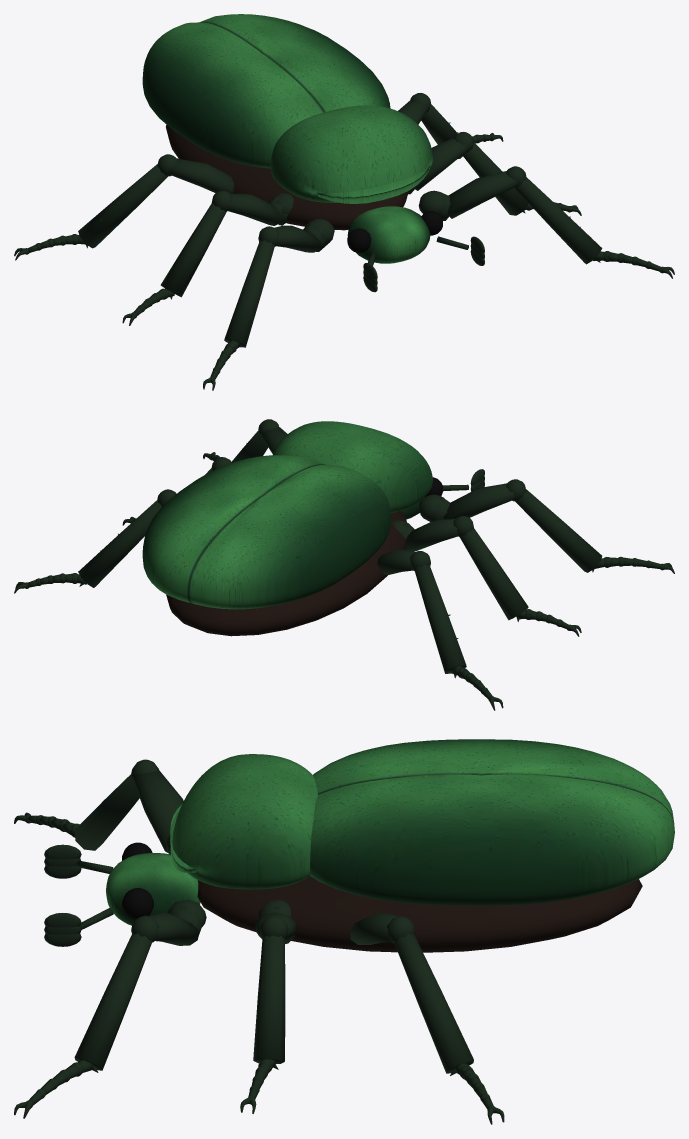
File: bug_kanabun.glb
3 renders of one model, top to bottom at view 1: azimuth 30°, elevation 25°; view 2: azimuth 150°, elevation 25°; view 3: azimuth 270°, elevation 25°, orthographic. The views are drawn at different scales.
Parts seen in each view (by area): view 1: shell, pronotum, leg_0_L_mesh, under, leg_1_R_mesh, leg_2_R_mesh, leg_0_R_mesh, head_shell, leg_1_L_mesh, leg_2_L_mesh, eyes; view 2: shell, pronotum, under, leg_0_R_mesh, leg_1_R_mesh, leg_2_R_mesh, leg_2_L_mesh, leg_0_L_mesh; view 3: shell, under, pronotum, leg_0_L_mesh, leg_2_L_mesh, leg_1_L_mesh, leg_0_R_mesh, head_shell, ant_L_mesh, ant_R_mesh, eyes.
Boxes of the visible parts, box(x1,y1,x2,y2) form: shell: box(142, 14, 390, 168); pronotum: box(270, 105, 433, 203); leg_0_L_mesh: box(418, 166, 674, 278); under: box(166, 124, 408, 230); leg_1_R_mesh: box(122, 190, 293, 325); leg_2_R_mesh: box(14, 154, 234, 260); leg_0_R_mesh: box(203, 218, 334, 390); head_shell: box(347, 206, 430, 263); leg_1_L_mesh: box(408, 132, 581, 215); leg_2_L_mesh: box(398, 93, 503, 158); eyes: box(347, 211, 442, 252); shell: box(142, 455, 391, 609); pronotum: box(273, 421, 433, 512); under: box(166, 510, 406, 636); leg_0_R_mesh: box(418, 479, 674, 573); leg_1_R_mesh: box(393, 515, 581, 636); leg_2_R_mesh: box(377, 549, 503, 710); leg_2_L_mesh: box(14, 489, 176, 593); leg_0_L_mesh: box(203, 419, 287, 462); shell: box(310, 739, 674, 905); under: box(197, 876, 642, 952); pronotum: box(170, 754, 317, 889); leg_0_L_mesh: box(14, 900, 206, 1118); leg_2_L_mesh: box(349, 913, 504, 1124); leg_1_L_mesh: box(240, 900, 295, 1113); leg_0_R_mesh: box(14, 759, 183, 854); head_shell: box(106, 853, 200, 925); ant_L_mesh: box(44, 907, 113, 946); ant_R_mesh: box(44, 844, 113, 878); eyes: box(122, 842, 153, 919).
Bounding box in the file's own units: 1.36 × 0.4128 × 1.23.
Materials: 5 (2 with a texture image).
